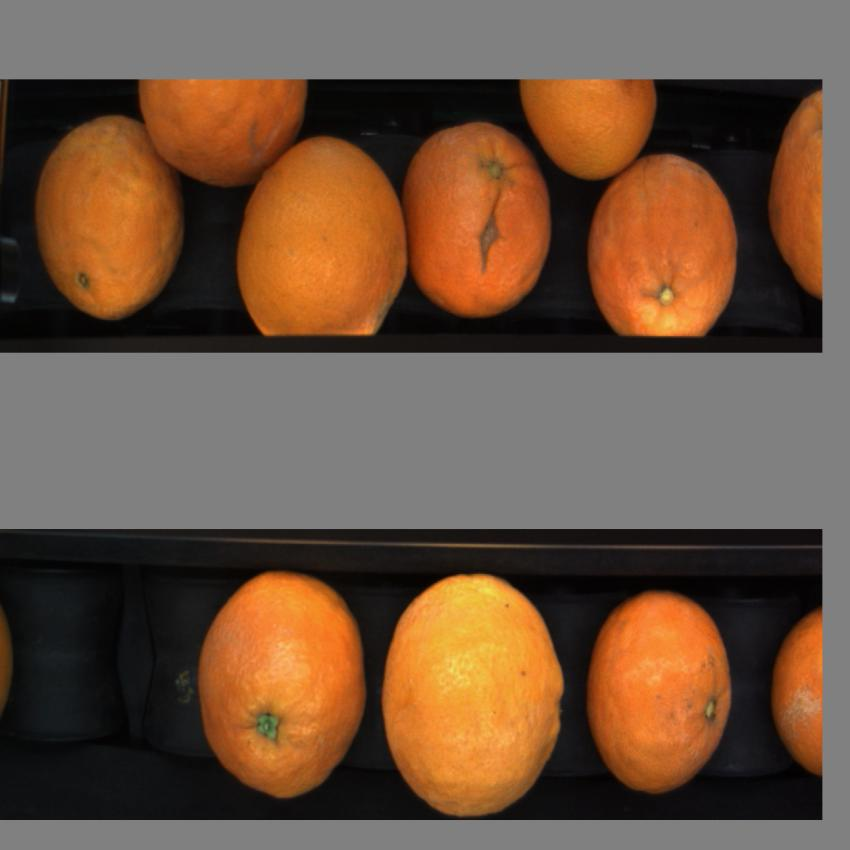Buen estado: (378, 568, 570, 819), (194, 564, 368, 805), (230, 129, 412, 345), (582, 579, 736, 798), (396, 115, 557, 321), (32, 111, 188, 319), (580, 146, 745, 339), (133, 82, 314, 189), (514, 81, 669, 185), (762, 87, 824, 298), (768, 598, 822, 789)
